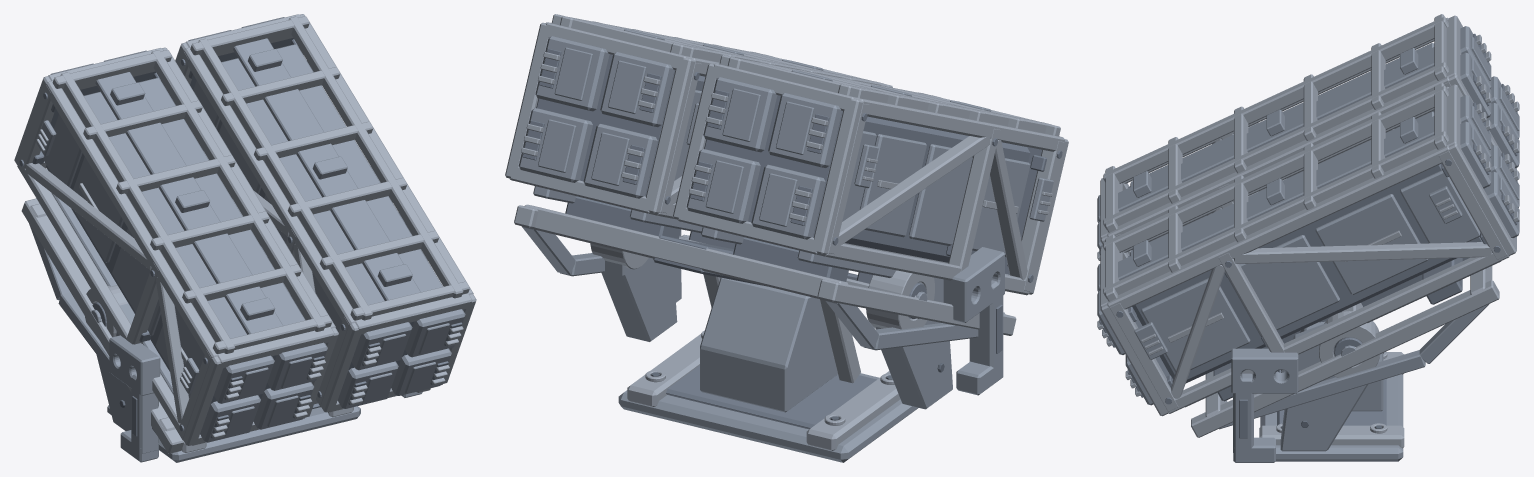
Rendered from horizontal-pods-b-assembly-v1.glb.
3 views of the same model, side by side, from view 1: azimuth 30°, elevation 25°; view 2: azimuth 150°, elevation 25°; view 3: azimuth 270°, elevation 25° (orthographic). The views are drawn at different scales.
Parts seen in each view (by area): view 1: CassetteLeft_B, CassetteRight_B, Mount_B, Cradle_B; view 2: CassetteLeft_B, Mount_B, CassetteRight_B, Cradle_B; view 3: CassetteRight_B, CassetteLeft_B, Mount_B, Cradle_B.
Boxes of the visible parts, x1,y1,x2,y2 form: CassetteLeft_B: (14, 47, 338, 445); CassetteRight_B: (166, 14, 476, 412); Mount_B: (85, 285, 422, 462); Cradle_B: (21, 198, 430, 453); CassetteLeft_B: (673, 55, 1068, 295); Mount_B: (590, 229, 1004, 462); CassetteRight_B: (505, 14, 892, 249); Cradle_B: (514, 204, 1016, 350); CassetteRight_B: (1097, 83, 1519, 416); CassetteLeft_B: (1097, 14, 1519, 260); Mount_B: (1231, 311, 1404, 462); Cradle_B: (1191, 257, 1499, 437).
Bounding box in the file's own units: 1.52 × 1.68 × 1.89.
